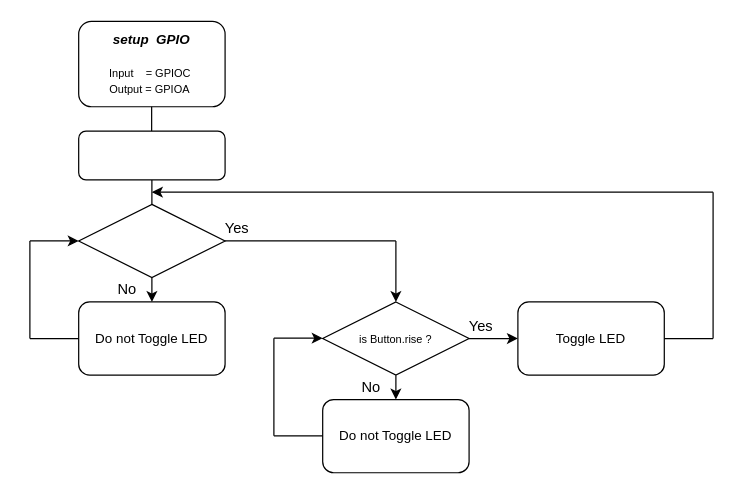
Image size: 744x494. Some labels were removed from this diagram. Here are the shapes that lost their labels. From the top down, the centre of each, then its label:
point 151,155: Variable Initialization
point 151,240: is Button.fall ?
